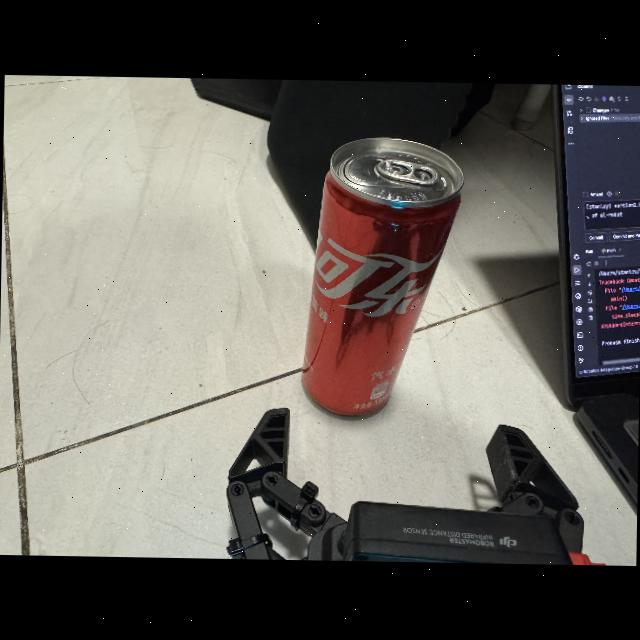Cola: (288, 121, 470, 427)
